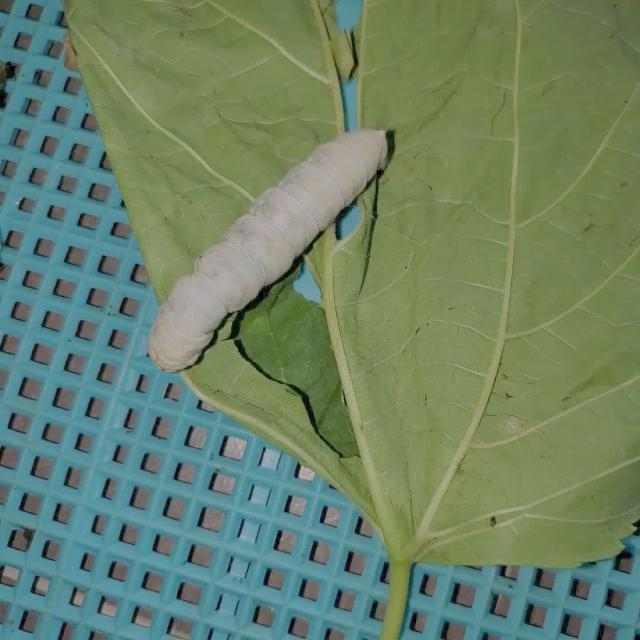Grasserie: (119, 88, 415, 417)
